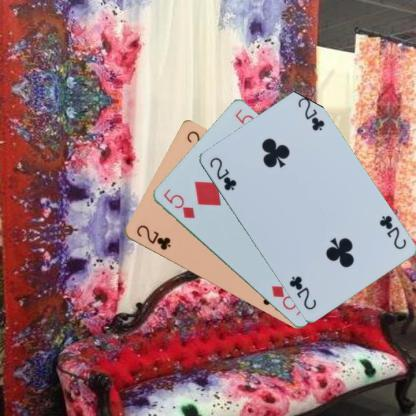2c: (206, 154, 238, 192), (376, 212, 407, 250), (134, 222, 172, 252)
5d: (160, 186, 196, 220)
